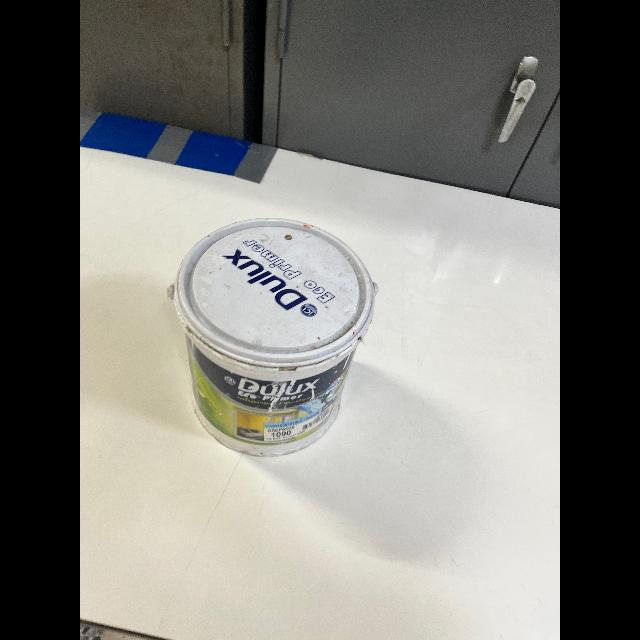paint_bucket: (163, 210, 381, 466)
